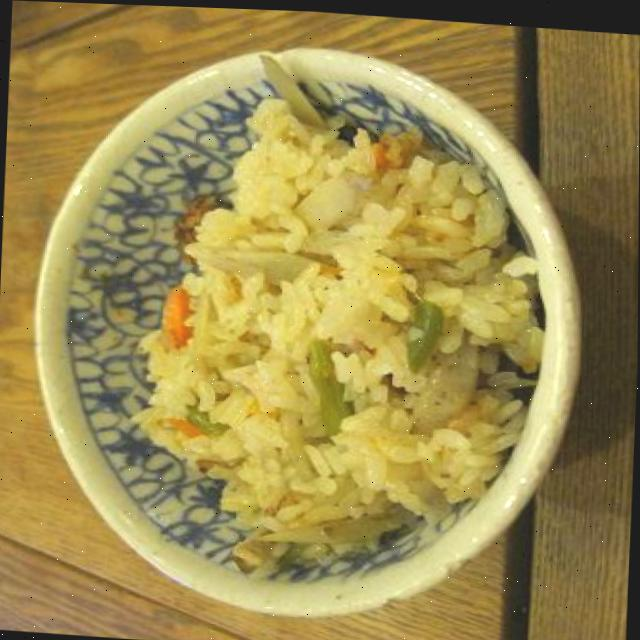米饭主食: (135, 99, 507, 549)
